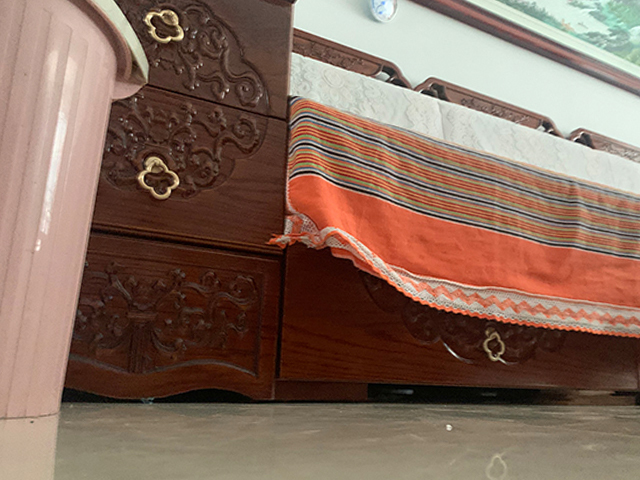sofa: (63, 1, 640, 404)
trashcan: (1, 1, 149, 418)
